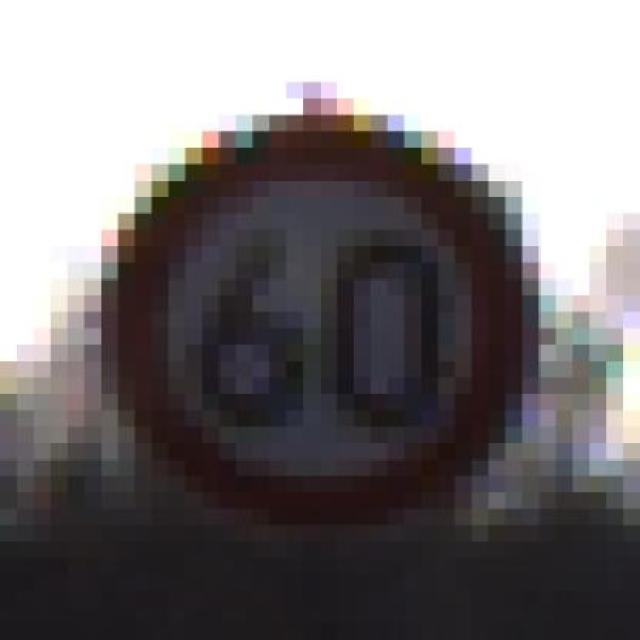forb_speed_over_60: (108, 127, 519, 522)
